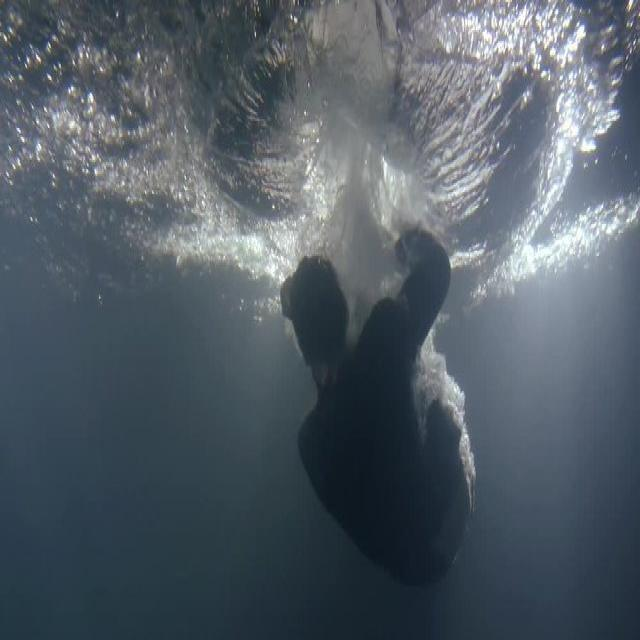Out of Water: (265, 71, 484, 596)
